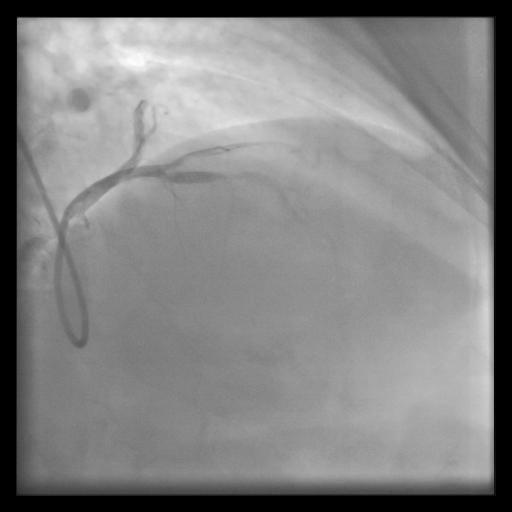Stenosis: (178, 147, 205, 166)
